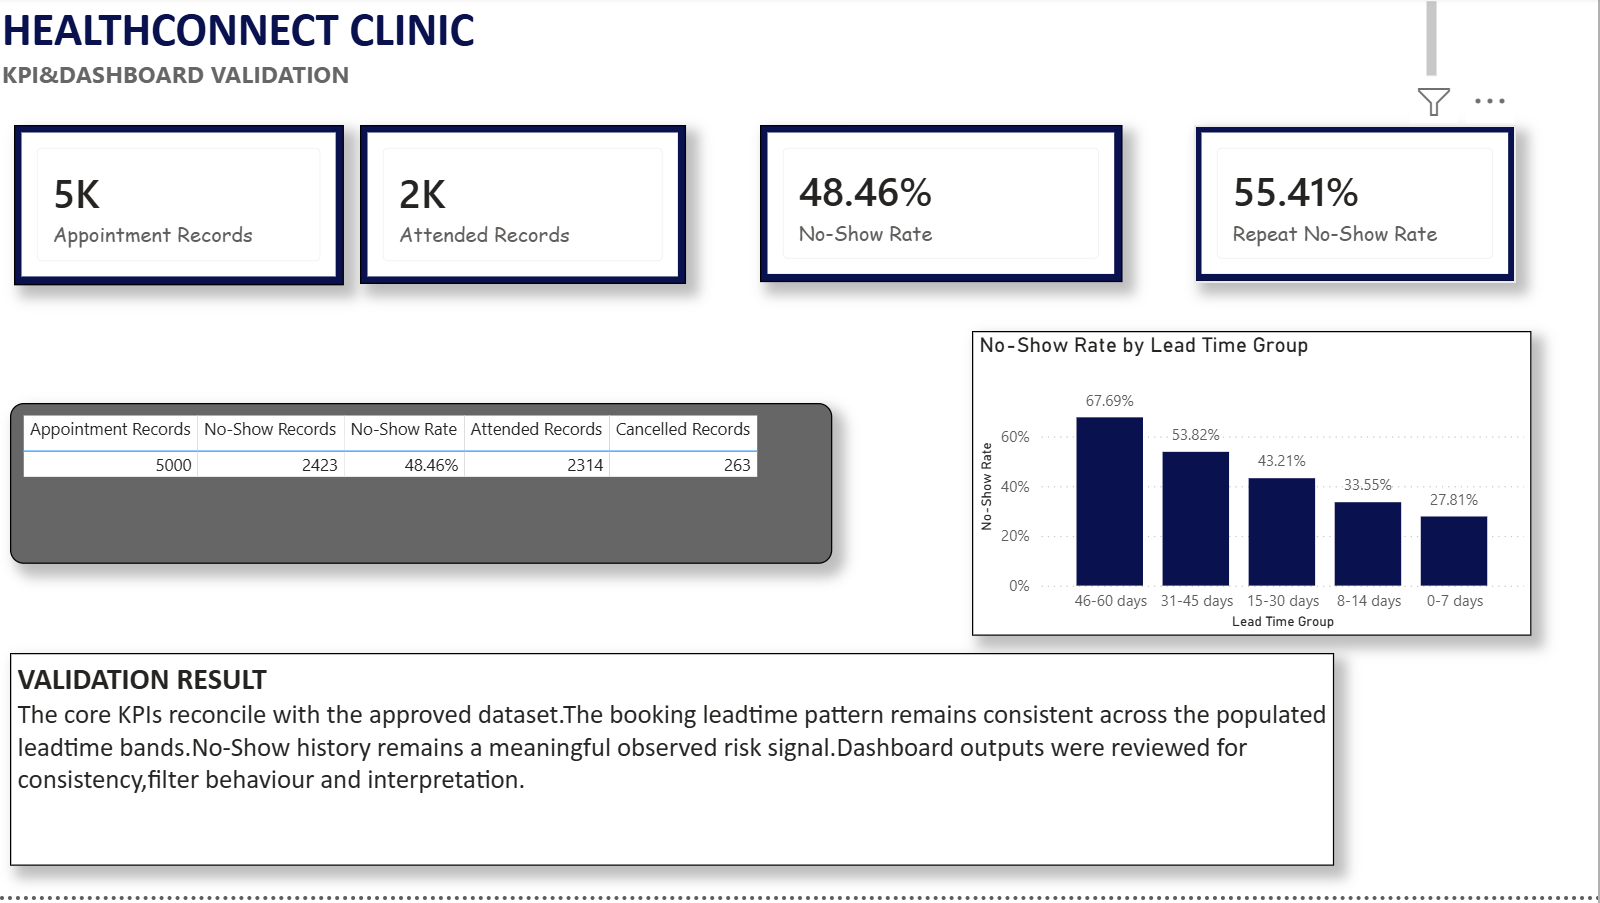

This screenshot's page, from the dashboard's own definition file:
{"tool":"powerbi","page":{"name":"KPI &Dashboard validation","canvas":[1280,720],"ordinal":0},"visuals":[{"type":"textbox","box":[0,0,1156,82.7],"z":0},{"type":"cardVisual","fields":{"Data":["HC Appointments.Appointment Records"]},"box":[14.4,103.9,263.7,127.8],"z":2000},{"type":"cardVisual","fields":{"Data":["HC Appointments.Attended Records"]},"box":[290.9,104.1,260.3,127.1],"z":3000},{"type":"cardVisual","fields":{"Data":["HC Appointments.No-Show Rate"]},"box":[610.9,104.1,289.4,125.6],"z":4000},{"type":"cardVisual","fields":{"Data":["HC Appointments.Repeat No-Show Rate"]},"box":[956.9,104.1,257.2,125.6],"z":5000},{"type":"tableEx","fields":{"Values":["HC Appointments.Appointment Records","HC Appointments.No-Show Records","HC Appointments.No-Show Rate","HC Appointments.Attended Records","HC Appointments.Cancelled Records"]},"box":[10.7,326.1,656.8,128.6],"z":6000},{"type":"clusteredColumnChart","fields":{"Category":["HC Appointments.Lead Time Group"],"Y":["HC Appointments.No-Show Rate"]},"box":[779.3,267.9,447.1,243.4],"z":7000},{"type":"textbox","box":[10.7,525.2,1058,170],"z":8000}]}

Visuals, with their boxes in screenshot pixels (x1, y1, x2, y2), scaled from the page's 1280x720 canvas onto the 1600x903 screenshot:
textbox: bbox(0, 0, 1445, 104)
cardVisual - HC Appointments.Appointment Records: bbox(18, 130, 348, 291)
cardVisual - HC Appointments.Attended Records: bbox(364, 131, 689, 290)
cardVisual - HC Appointments.No-Show Rate: bbox(764, 131, 1125, 288)
cardVisual - HC Appointments.Repeat No-Show Rate: bbox(1196, 131, 1518, 288)
tableEx - HC Appointments.Appointment Records x HC Appointments.No-Show Records: bbox(13, 409, 834, 570)
clusteredColumnChart - HC Appointments.Lead Time Group x HC Appointments.No-Show Rate: bbox(974, 336, 1533, 641)
textbox: bbox(13, 659, 1336, 872)
